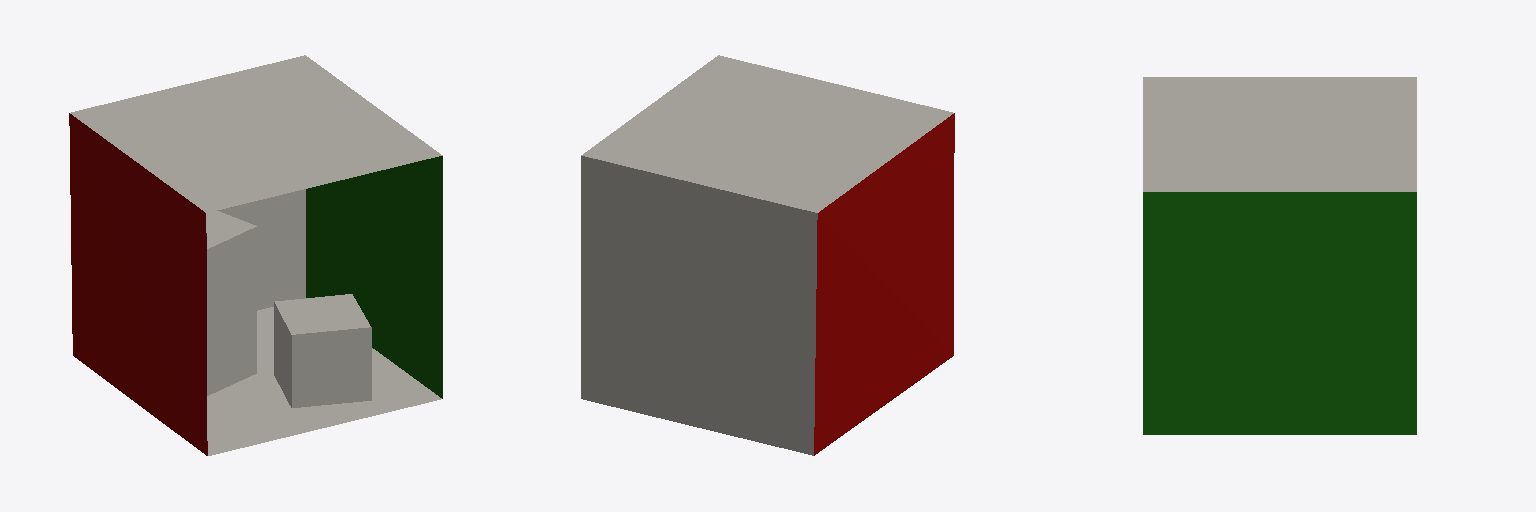
File: CornellBox.obj
3 views of the same model, side by side, from view 1: azimuth 30°, elevation 25°; view 2: azimuth 150°, elevation 25°; view 3: azimuth 270°, elevation 25° (orthographic).
Size of the model in its own units: 2.02 by 1.99 by 2.03.